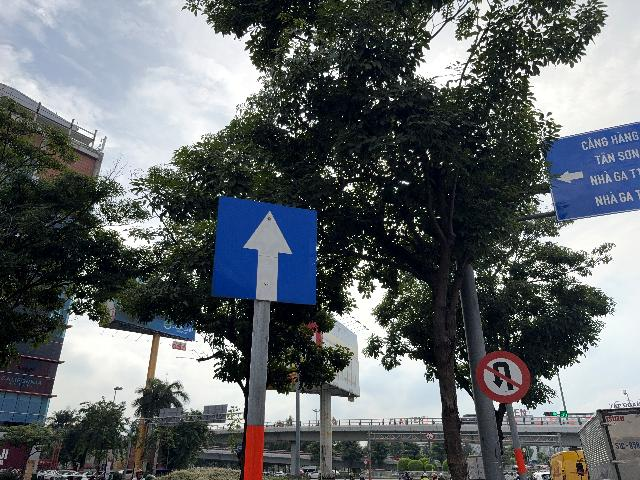cam-quay-dau-xe: (477, 350, 530, 403)
duong-mot-chieu: (211, 196, 317, 306)
